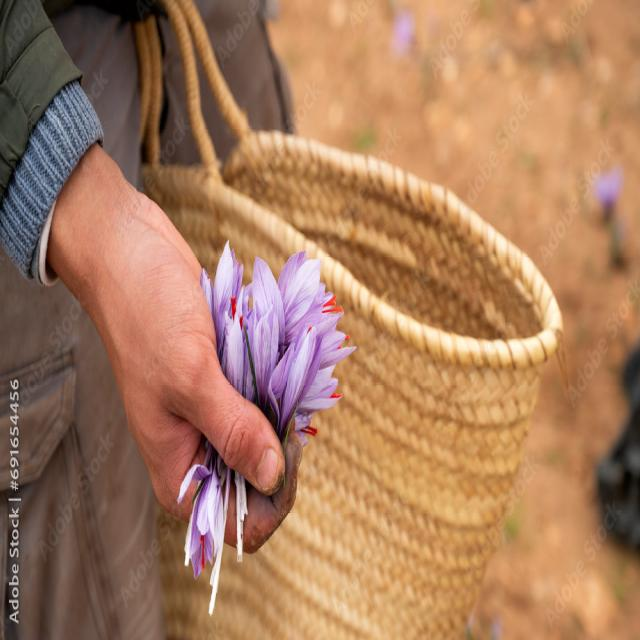saffron closed: (279, 327, 321, 438)
